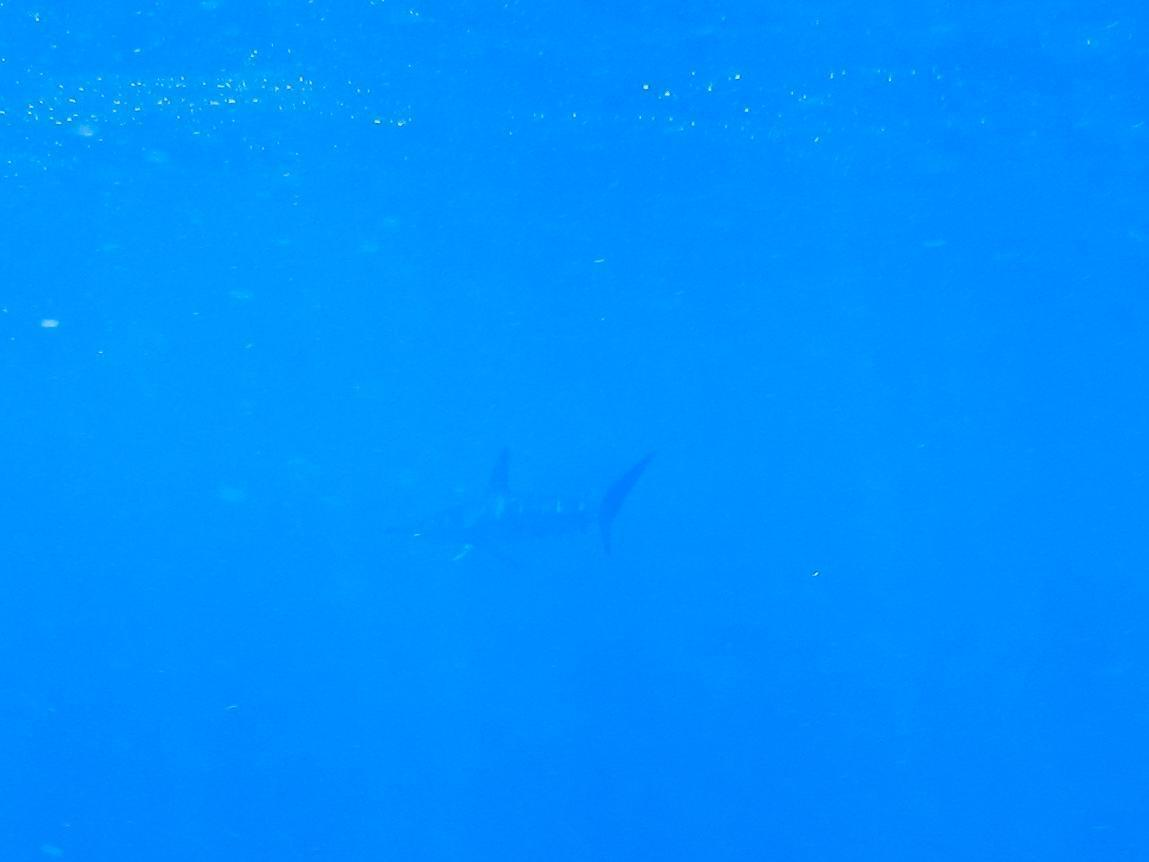Fish: (390, 436, 692, 584)
